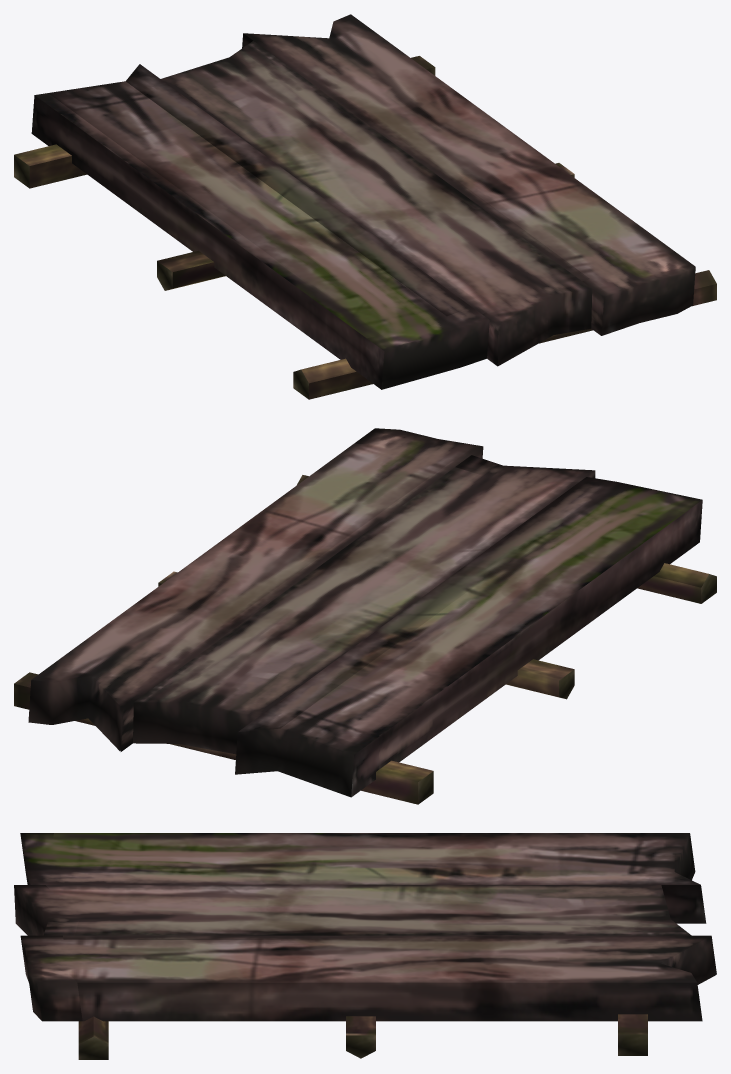
File: STR_PathWoodA.FBX
The picture shows the model from 3 angles, top to bottom: view 1: azimuth 30°, elevation 25°; view 2: azimuth 150°, elevation 25°; view 3: azimuth 270°, elevation 25°; orthographic projection. The views are drawn at different scales.
Parts seen in each view (by area): view 1: STR_PathWoodA; view 2: STR_PathWoodA; view 3: STR_PathWoodA.
Boxes of the visible parts, <box> form: STR_PathWoodA: <box>14,14,716,399</box>; STR_PathWoodA: <box>14,428,716,804</box>; STR_PathWoodA: <box>14,833,716,1059</box>.
Bounding box in the file's own units: 130 × 18.2 × 202.
